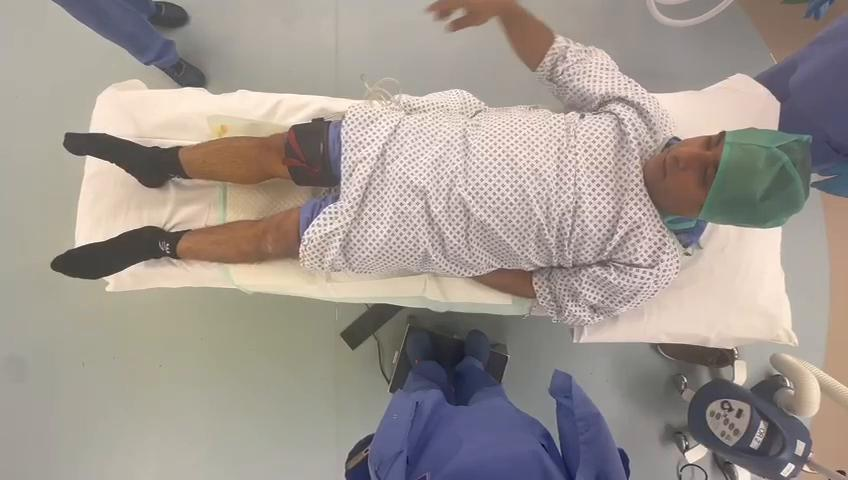bed: (53, 76, 810, 345)
patient: (51, 0, 812, 325)
tourniquet: (283, 119, 340, 186)
